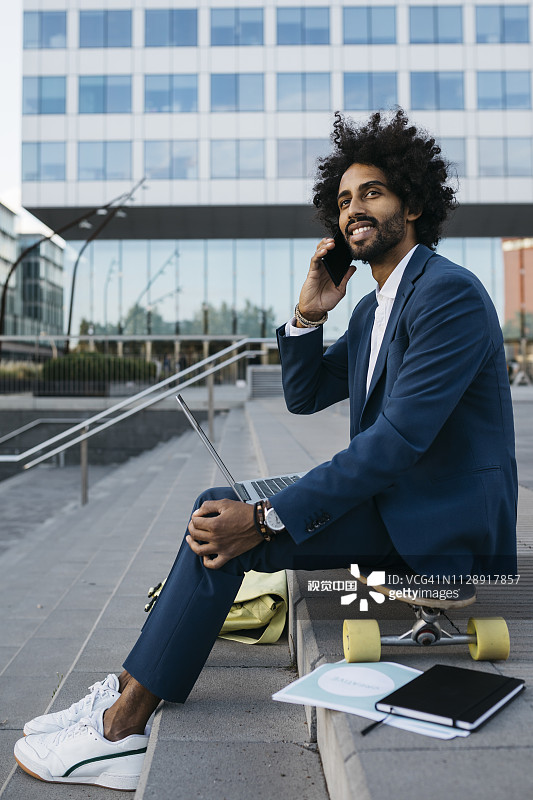calling: (279, 209, 362, 331)
no-phone: (176, 489, 290, 582)
